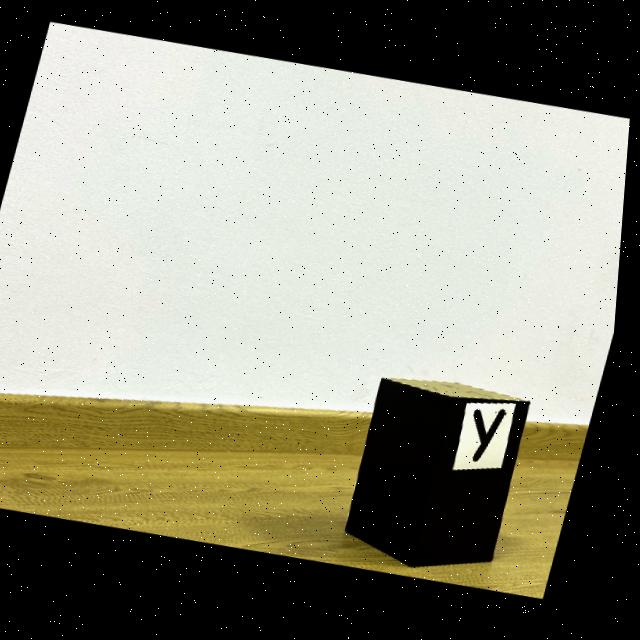Y: (481, 412, 512, 465)
